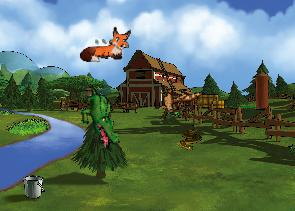crocodile: (67, 83, 133, 151)
eagle: (147, 70, 205, 129)
fox: (79, 26, 132, 63)
